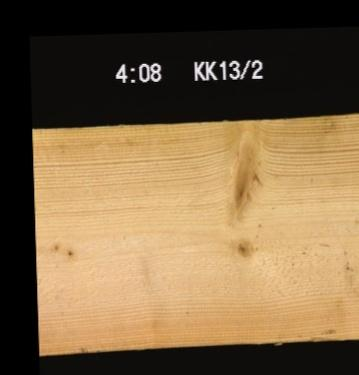small_knot: (64, 247, 74, 256), (50, 241, 58, 251)
sound_knot: (232, 236, 253, 259)
